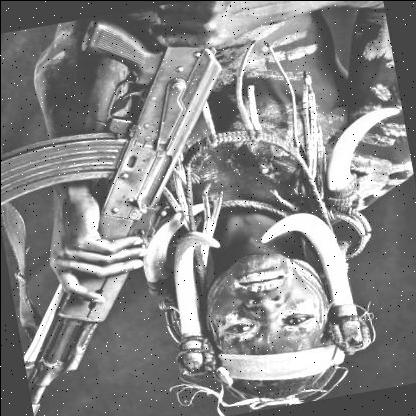rifle: (0, 2, 286, 416)
